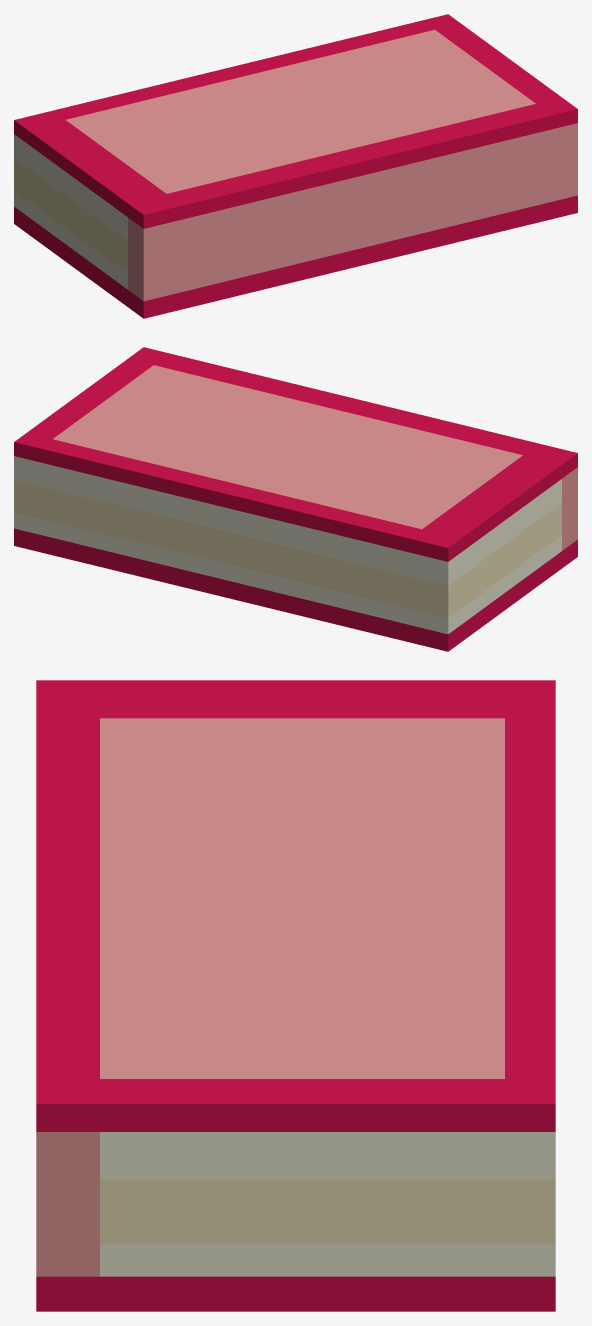
Rendered from CookBook_Closed.fbx.
The picture shows the model from 3 angles, top to bottom: view 1: azimuth 30°, elevation 25°; view 2: azimuth 150°, elevation 25°; view 3: azimuth 270°, elevation 25°; orthographic projection. The views are drawn at different scales.
Parts seen in each view (by area): view 1: CookBook_Closed; view 2: CookBook_Closed; view 3: CookBook_Closed.
Boxes of the visible parts, left/top/right/bottom form: CookBook_Closed: left=14, top=14, right=577, bottom=318; CookBook_Closed: left=14, top=347, right=577, bottom=651; CookBook_Closed: left=36, top=680, right=555, bottom=1311.
Size of the model in its own units: 57.41 by 13.11 by 29.72.
